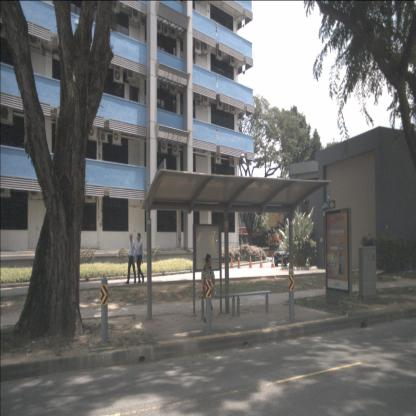human-pedestrian-adult: (201, 253, 215, 323), (124, 233, 136, 284), (133, 233, 144, 284)
movable_object-trafficcone: (270, 254, 275, 268), (259, 254, 263, 268), (230, 257, 234, 268), (237, 255, 240, 269), (249, 256, 252, 268)
vehicle-car: (274, 242, 299, 266)
